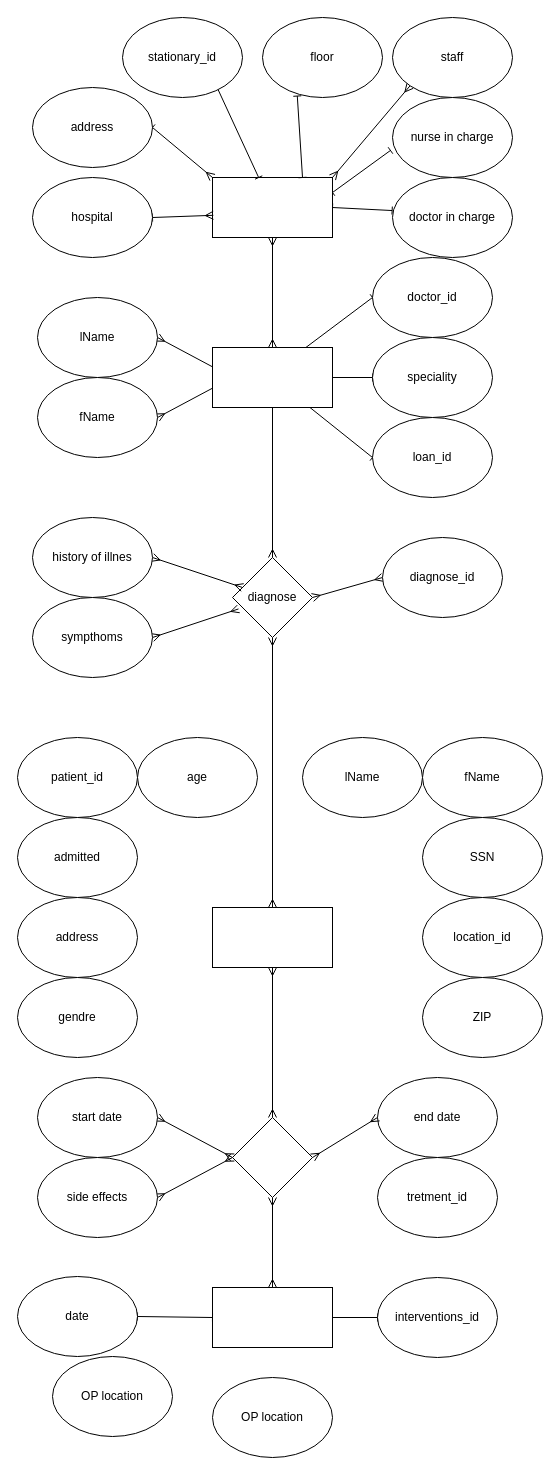
The diagram is 560 pixels wide and 1475 high, and some of its shapes have lost their labels. The centre of each missing label's shape, as x and y in pixels:
"doctor" goes at point 272,377.
"interventions" goes at point 272,1317.
"patient" goes at point 272,937.
"stationary" goes at point 272,207.
"tretment" goes at point 272,1157.
